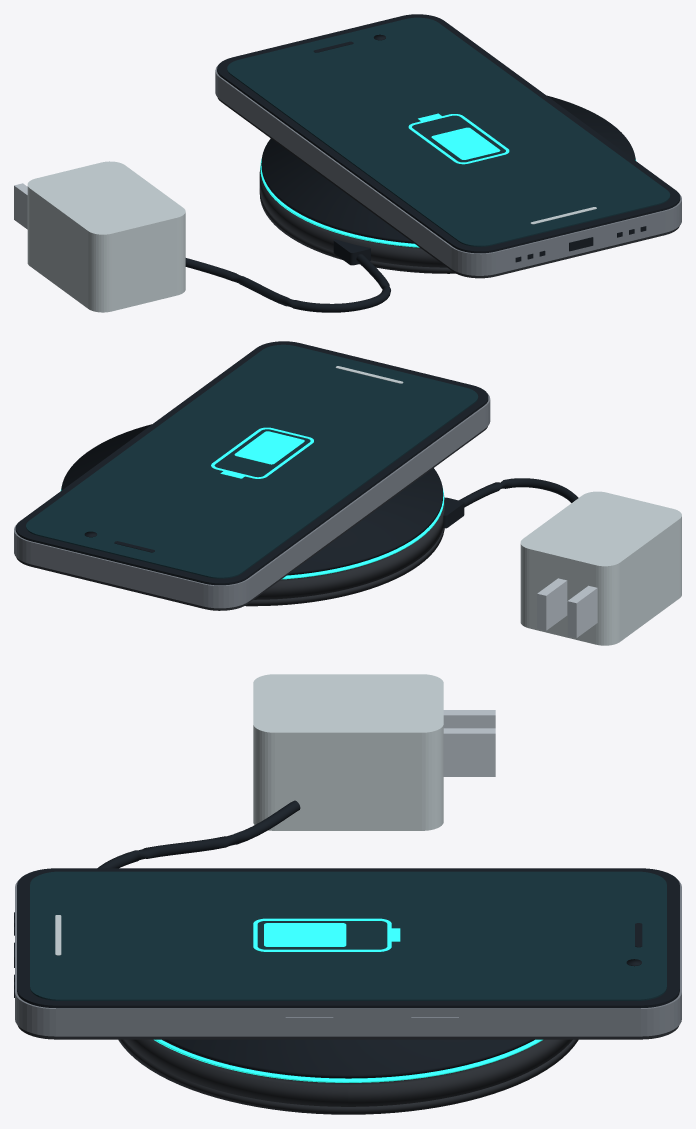
The model's file is wireless-charging.glb.
The picture shows the model from 3 angles, top to bottom: view 1: azimuth 30°, elevation 25°; view 2: azimuth 150°, elevation 25°; view 3: azimuth 270°, elevation 25°; orthographic projection. The views are drawn at different scales.
Visible parts, largest first — view 1: screen__wireless_screen, adapter__wireless_white, phone_frame__wireless_frame, screen__wireless_black, pad_cover__wireless_black, pad_base__wireless_graphite, cable__wireless_black, screen__wireless_teal, phone_back__wireless_graphite, pad_cover__wireless_teal, adapter__wireless_silver; view 2: screen__wireless_screen, adapter__wireless_white, phone_frame__wireless_frame, screen__wireless_black, pad_cover__wireless_black, pad_base__wireless_graphite, adapter__wireless_silver, screen__wireless_teal, cable__wireless_black, phone_back__wireless_graphite, pad_cover__wireless_teal; view 3: screen__wireless_screen, adapter__wireless_white, phone_frame__wireless_frame, pad_base__wireless_graphite, screen__wireless_black, pad_cover__wireless_black, adapter__wireless_silver, screen__wireless_teal, phone_back__wireless_graphite, cable__wireless_black, pad_cover__wireless_teal.
Boxes of the visible parts, bbox=[...] form: screen__wireless_screen: bbox=[227, 17, 670, 246]; adapter__wireless_white: bbox=[27, 161, 185, 312]; phone_frame__wireless_frame: bbox=[215, 65, 681, 275]; screen__wireless_black: bbox=[217, 14, 680, 253]; pad_cover__wireless_black: bbox=[261, 95, 635, 243]; pad_base__wireless_graphite: bbox=[259, 166, 455, 273]; cable__wireless_black: bbox=[185, 239, 390, 312]; screen__wireless_teal: bbox=[408, 113, 509, 164]; phone_back__wireless_graphite: bbox=[218, 98, 679, 278]; pad_cover__wireless_teal: bbox=[260, 158, 636, 247]; adapter__wireless_silver: bbox=[14, 183, 27, 229]; screen__wireless_screen: bbox=[26, 344, 478, 578]; adapter__wireless_white: bbox=[520, 491, 681, 645]; phone_frame__wireless_frame: bbox=[14, 394, 490, 608]; screen__wireless_black: bbox=[15, 341, 488, 585]; pad_cover__wireless_black: bbox=[61, 424, 443, 575]; pad_base__wireless_graphite: bbox=[245, 497, 444, 606]; adapter__wireless_silver: bbox=[537, 578, 597, 637]; screen__wireless_teal: bbox=[211, 427, 313, 478]; cable__wireless_black: bbox=[443, 478, 578, 528]; phone_back__wireless_graphite: bbox=[16, 426, 487, 610]; pad_cover__wireless_teal: bbox=[60, 489, 444, 579]; screen__wireless_screen: bbox=[30, 871, 666, 1000]; adapter__wireless_white: bbox=[253, 674, 443, 830]; phone_frame__wireless_frame: bbox=[15, 880, 681, 1036]; pad_base__wireless_graphite: bbox=[118, 1039, 578, 1114]; screen__wireless_black: bbox=[17, 868, 679, 1008]; pad_cover__wireless_black: bbox=[162, 1039, 534, 1078]; adapter__wireless_silver: bbox=[443, 710, 495, 776]; screen__wireless_teal: bbox=[253, 918, 400, 951]; phone_back__wireless_graphite: bbox=[17, 1025, 679, 1039]; cable__wireless_black: bbox=[97, 800, 300, 868]; pad_cover__wireless_teal: bbox=[154, 1039, 542, 1082].
Bounding box in the file's own units: 0.186 × 0.0255 × 0.1542.
